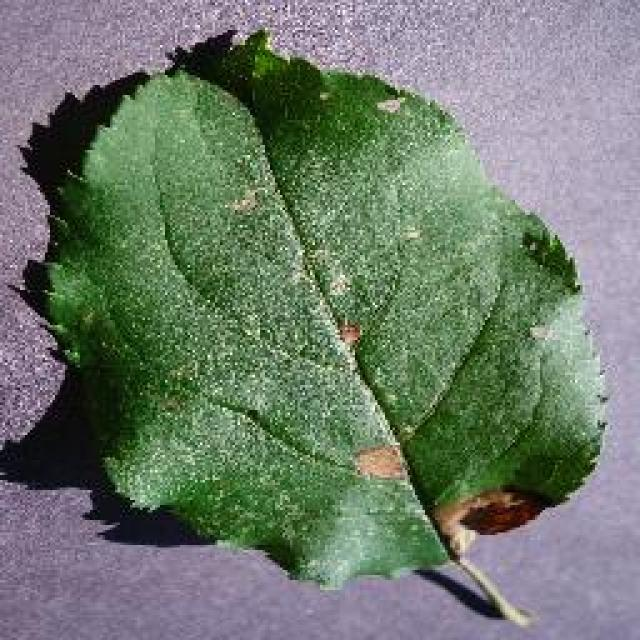apple black rot: (10, 25, 610, 623)
